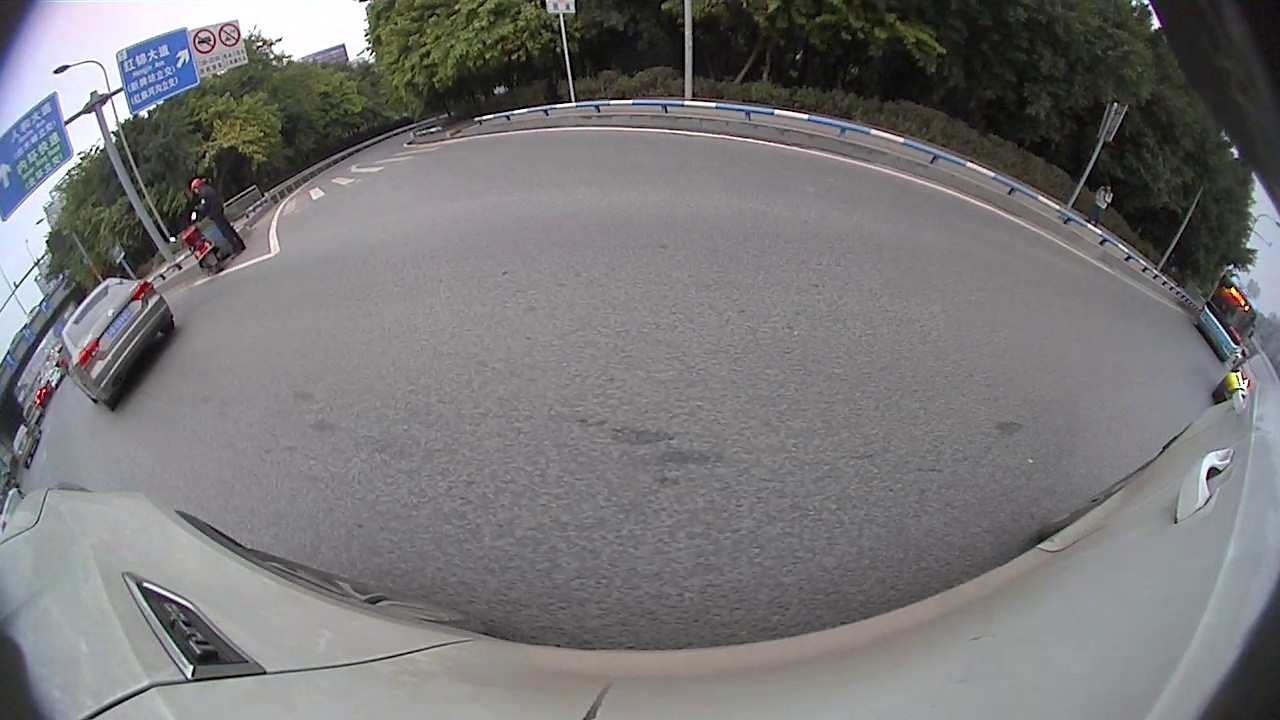bus: (1196, 274, 1256, 364)
car: (58, 276, 178, 413), (1212, 348, 1279, 407), (9, 421, 40, 470), (1, 485, 29, 532), (19, 402, 45, 425)
person: (200, 178, 220, 263), (1098, 176, 1113, 229)
rear: (97, 384, 122, 413), (158, 315, 182, 339)
rider: (168, 211, 219, 270)
